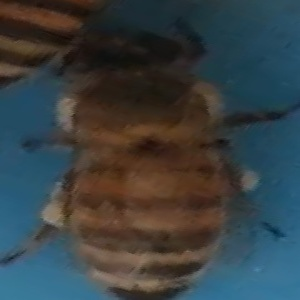bee: (83, 31, 238, 298)
